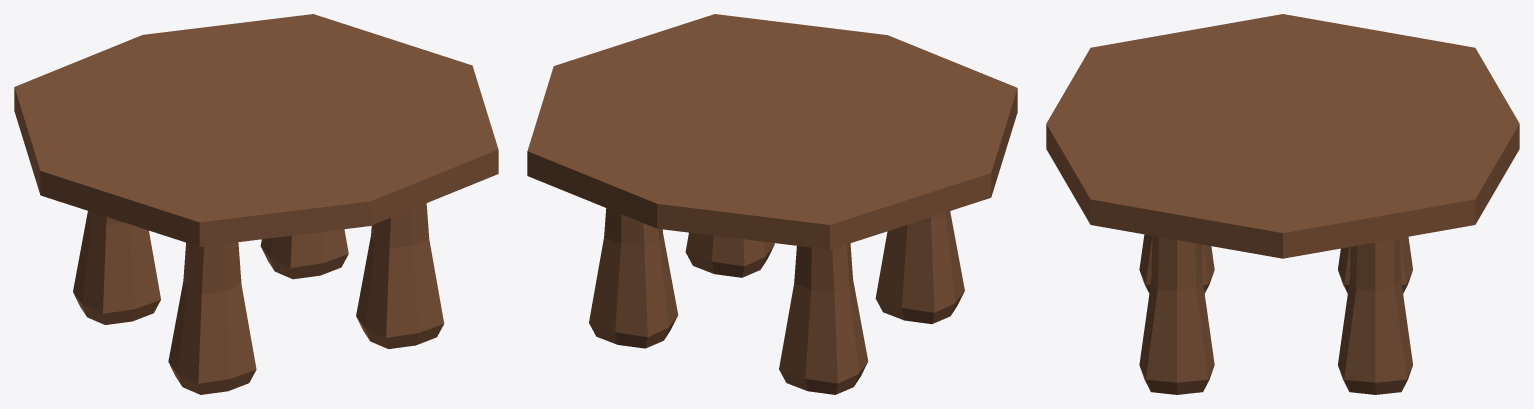
The model's file is Stool.fbx.
The picture shows the model from 3 angles, left to right: view 1: azimuth 30°, elevation 25°; view 2: azimuth 150°, elevation 25°; view 3: azimuth 270°, elevation 25°; orthographic projection. The views are drawn at different scales.
Parts seen in each view (by area): view 1: Cube.005; view 2: Cube.005; view 3: Cube.005.
Part boxes in pixels (x1,y1,x2,y2): Cube.005: (14, 14, 498, 394); Cube.005: (527, 14, 1017, 394); Cube.005: (1046, 14, 1519, 394).
Bounding box in the file's own units: 217 × 96.37 × 198.
